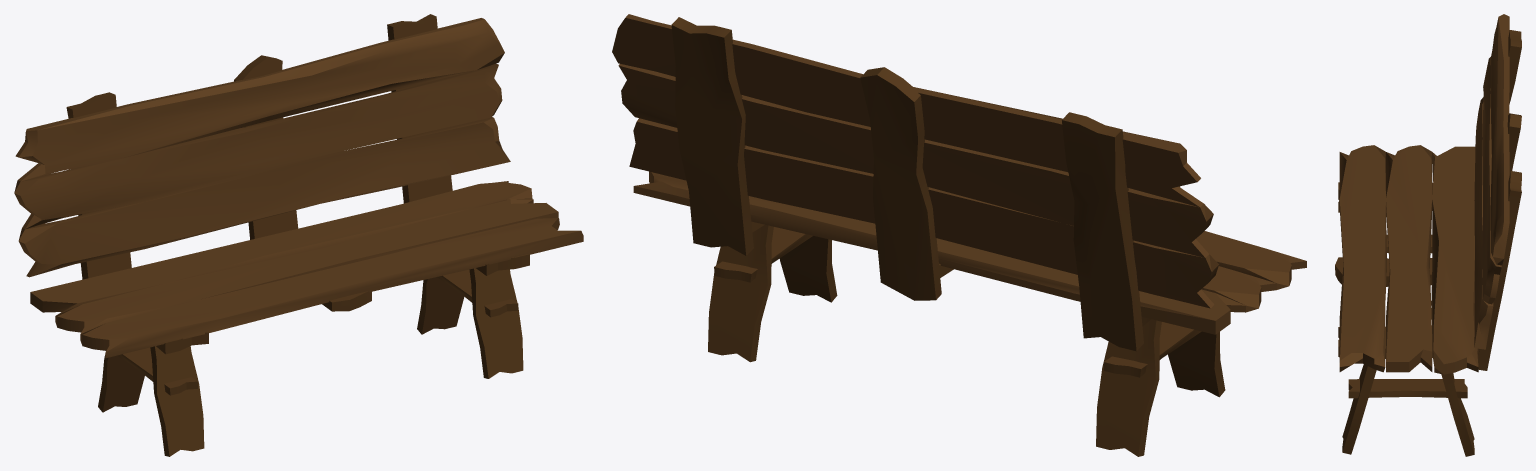
Rendered from BenchChair_2.fbx.
3 renders of one model, left to right at view 1: azimuth 30°, elevation 25°; view 2: azimuth 150°, elevation 25°; view 3: azimuth 270°, elevation 25°, orthographic. The views are drawn at different scales.
Visible parts, largest first — view 1: BenchChair_2; view 2: BenchChair_2; view 3: BenchChair_2.
Boxes of the visible parts, x1,y1,x2,y2 form: BenchChair_2: [14, 14, 583, 456]; BenchChair_2: [612, 14, 1306, 456]; BenchChair_2: [1335, 14, 1521, 456].
Size of the model in its own units: 146 by 83.67 by 52.79.
